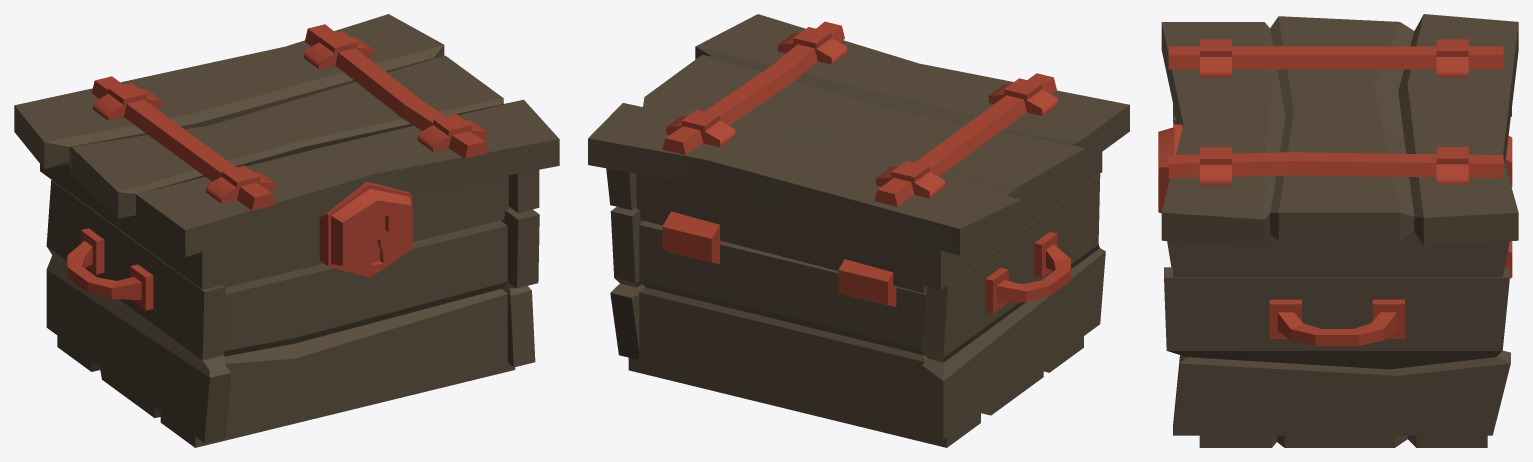
Rendered from synty-prop-chest-wood-01.gltf.
The picture shows the model from 3 angles, left to right: view 1: azimuth 30°, elevation 25°; view 2: azimuth 150°, elevation 25°; view 3: azimuth 270°, elevation 25°; orthographic projection. The views are drawn at different scales.
Visible parts, largest first — view 1: SM_Prop_Chest_Wood_01; view 2: SM_Prop_Chest_Wood_01; view 3: SM_Prop_Chest_Wood_01.
Part boxes in pixels (x1=…): SM_Prop_Chest_Wood_01: x1=14, y1=14, x2=559, y2=447; SM_Prop_Chest_Wood_01: x1=588, y1=14, x2=1129, y2=447; SM_Prop_Chest_Wood_01: x1=1158, y1=14, x2=1518, y2=447.
Bounding box in the file's own units: 1.16 × 0.6793 × 0.832.
Materials: 1 (1 with a texture image).
